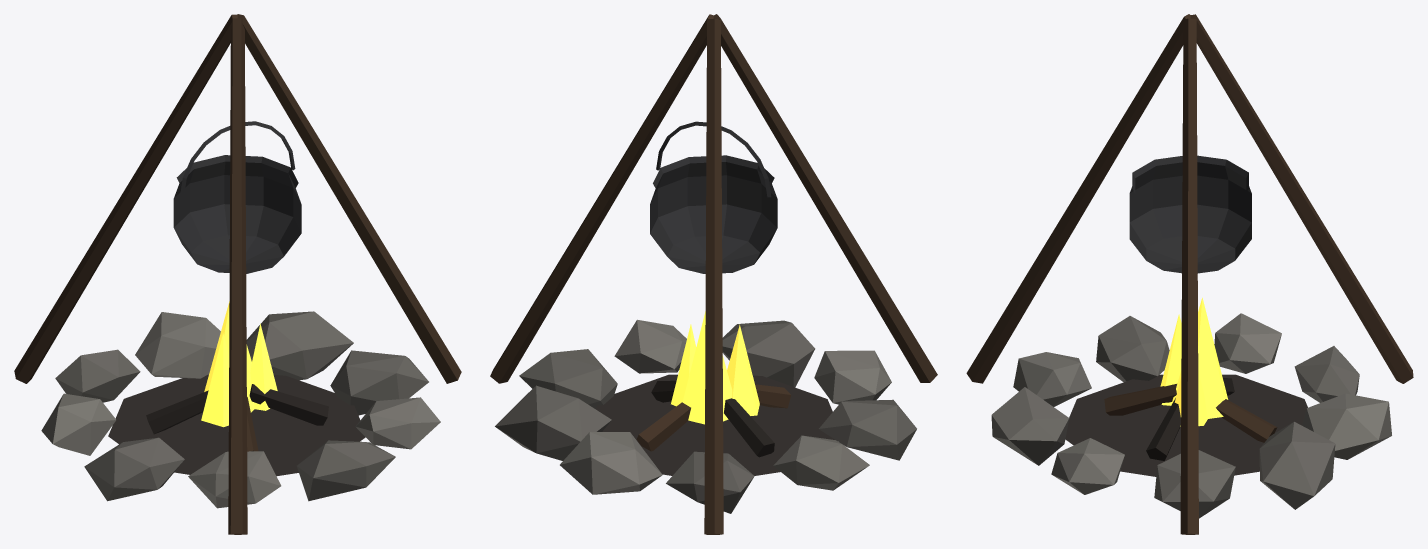
The model's file is b6_ildsted.glb.
3 renders of one model, left to right at view 1: azimuth 30°, elevation 25°; view 2: azimuth 150°, elevation 25°; view 3: azimuth 270°, elevation 25°, orthographic.
Parts seen in each view (by area): view 1: B6_ildsted, flammer; view 2: B6_ildsted, flammer; view 3: B6_ildsted, flammer.
Boxes of the visible parts, box(x1,y1,x2,y2) form: B6_ildsted: box(14, 14, 461, 534); flammer: box(201, 301, 277, 427); B6_ildsted: box(490, 14, 937, 534); flammer: box(671, 311, 759, 424); B6_ildsted: box(966, 14, 1413, 534); flammer: box(1160, 297, 1228, 426).
Size of the model in its own units: 1.55 by 1.62 by 1.53.
